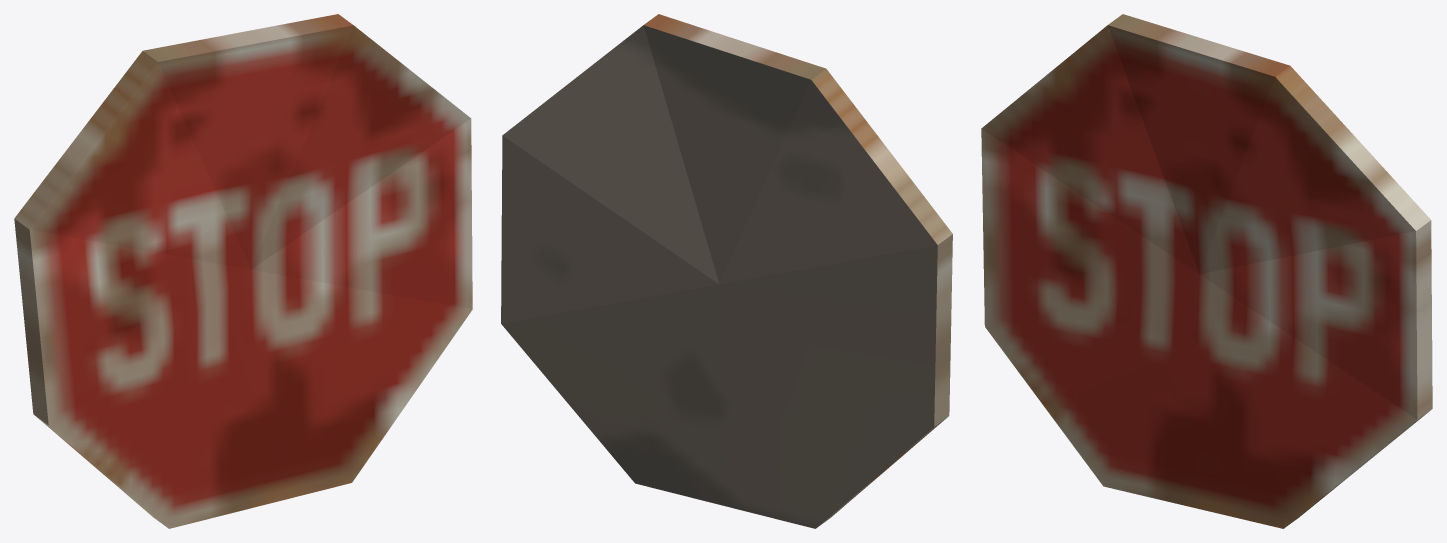
Rendered from SM_Prop_Sign_Warning_01.obj.
3 views of the same model, side by side, from view 1: azimuth 30°, elevation 25°; view 2: azimuth 150°, elevation 25°; view 3: azimuth 330°, elevation 25° (orthographic).
Parts seen in each view (by area): view 1: SM_Prop_Sign_Warning_01_0; view 2: SM_Prop_Sign_Warning_01_0; view 3: SM_Prop_Sign_Warning_01_0.
Boxes of the visible parts, left/top/right/bottom form: SM_Prop_Sign_Warning_01_0: left=14, top=14, right=472, bottom=528; SM_Prop_Sign_Warning_01_0: left=501, top=14, right=952, bottom=528; SM_Prop_Sign_Warning_01_0: left=981, top=14, right=1432, bottom=528.
Size of the model in its own units: 1.04 by 1.04 by 0.115.
1 material, 1 textured.
